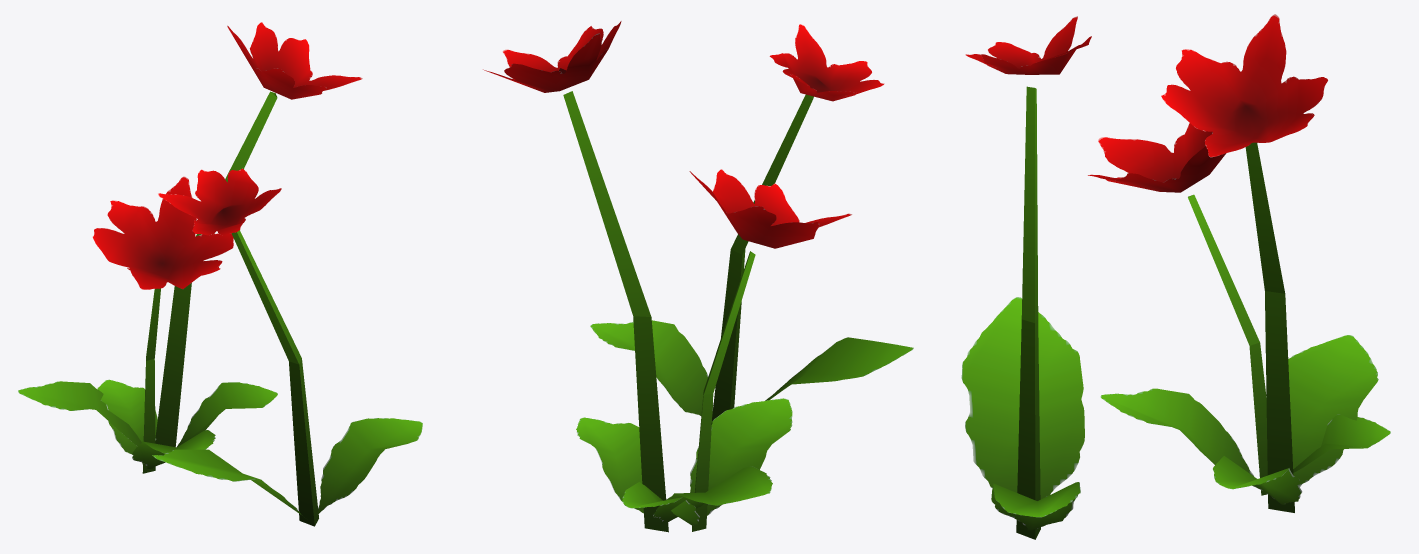
Rendered from Flower_2.fbx.
3 renders of one model, left to right at view 1: azimuth 30°, elevation 25°; view 2: azimuth 150°, elevation 25°; view 3: azimuth 270°, elevation 25°, orthographic. The views are drawn at different scales.
Parts seen in each view (by area): view 1: Flower 2; view 2: Flower 2; view 3: Flower 2.
Part boxes in pixels (left/top/right/bottom): Flower 2: left=18, top=22, right=422, bottom=526; Flower 2: left=483, top=21, right=913, bottom=532; Flower 2: left=961, top=14, right=1390, bottom=539.
Bounding box in the file's own units: 64.79 × 87.26 × 67.24.
